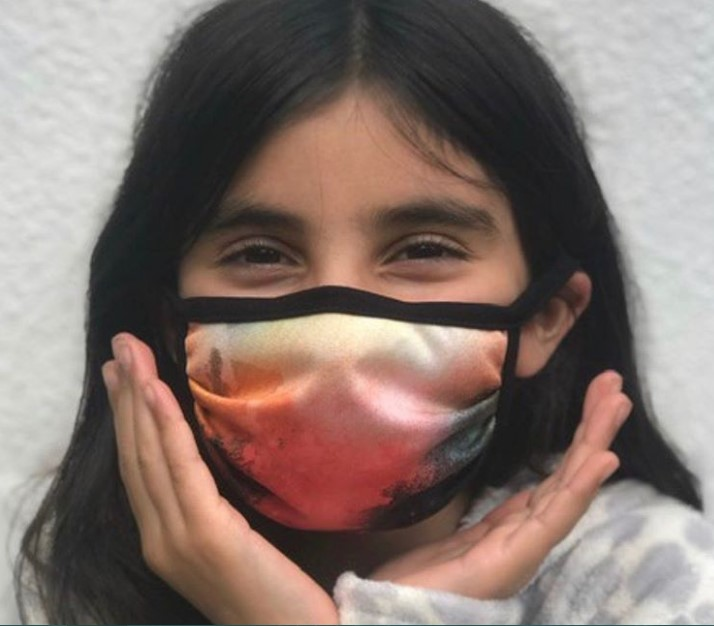face_with_mask: (100, 9, 605, 538)
